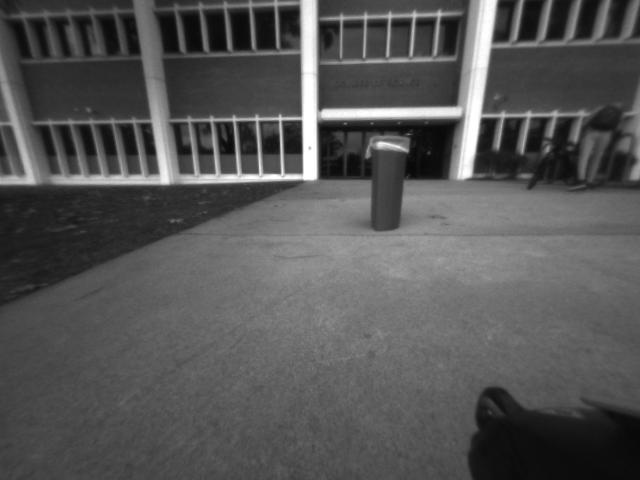trashcan_open: (360, 128, 414, 241)
